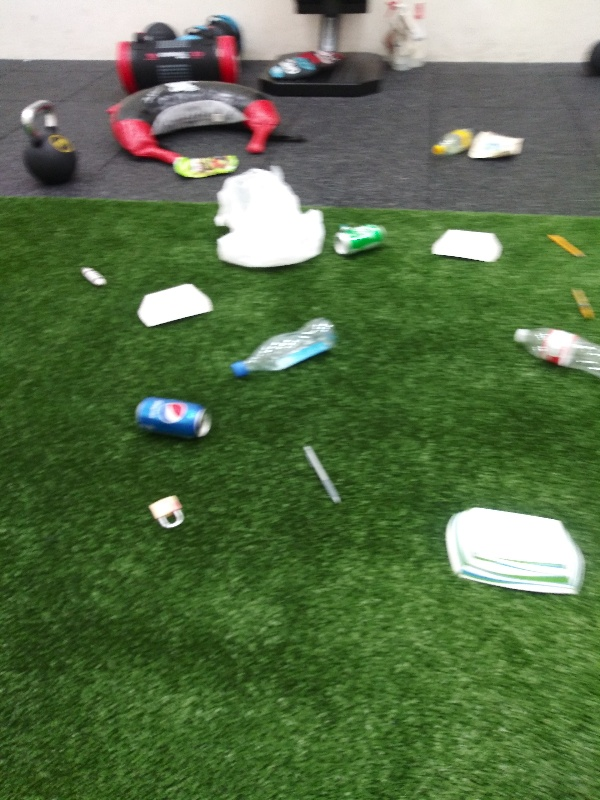bag: (468, 128, 526, 163), (172, 154, 241, 182)
bottle: (227, 311, 339, 383), (509, 325, 600, 386), (429, 121, 475, 155)
can: (130, 396, 212, 441), (331, 220, 392, 261)
plate: (440, 505, 589, 598), (132, 281, 219, 330), (429, 225, 505, 272)
